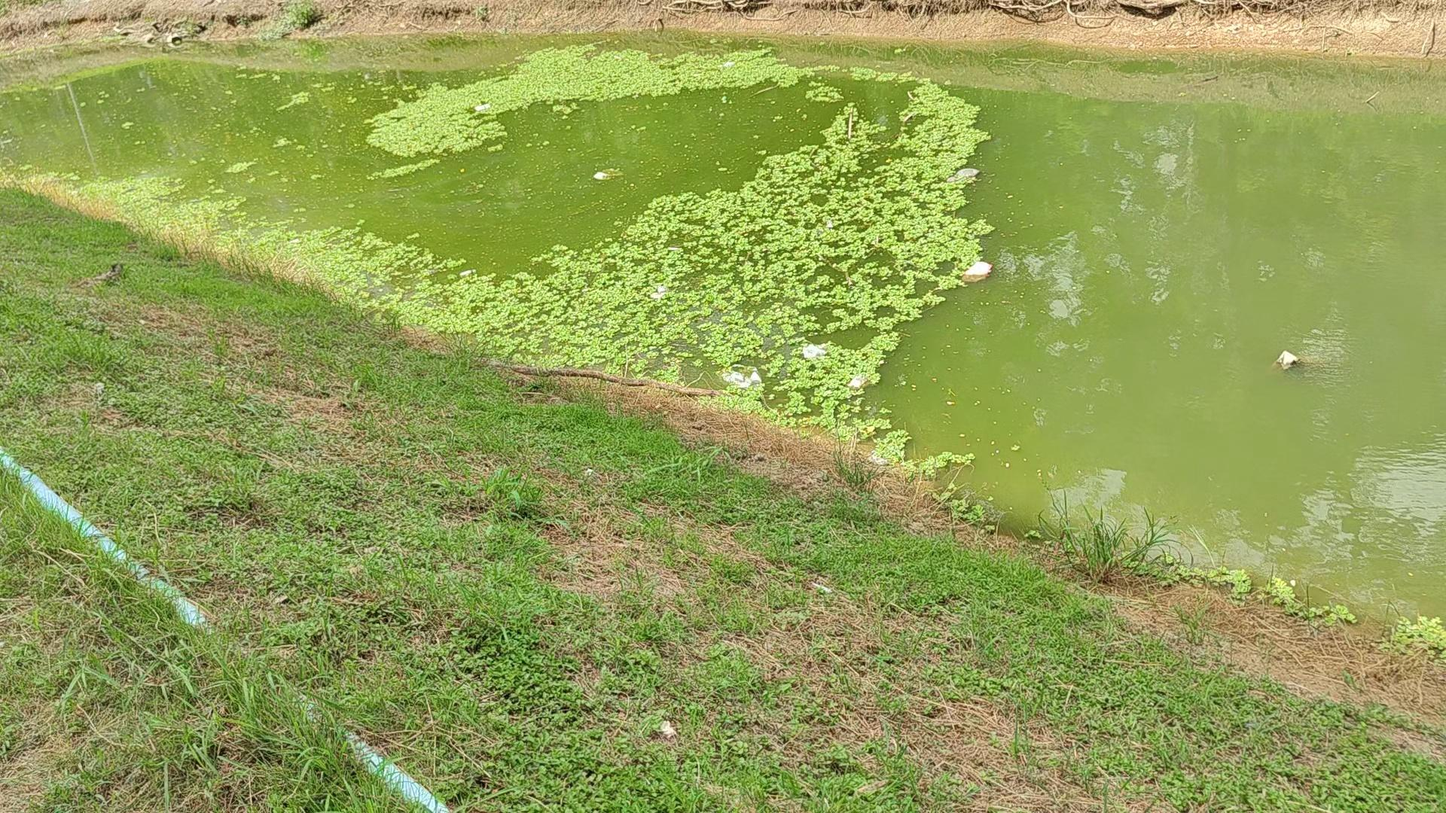trash: (723, 368, 761, 388), (962, 261, 992, 281), (948, 167, 980, 181), (1275, 351, 1299, 369), (802, 343, 826, 358), (849, 374, 867, 388), (649, 285, 667, 299), (593, 169, 617, 179), (474, 102, 490, 111), (459, 269, 475, 276), (722, 60, 735, 67), (826, 219, 834, 227), (669, 246, 681, 250)
